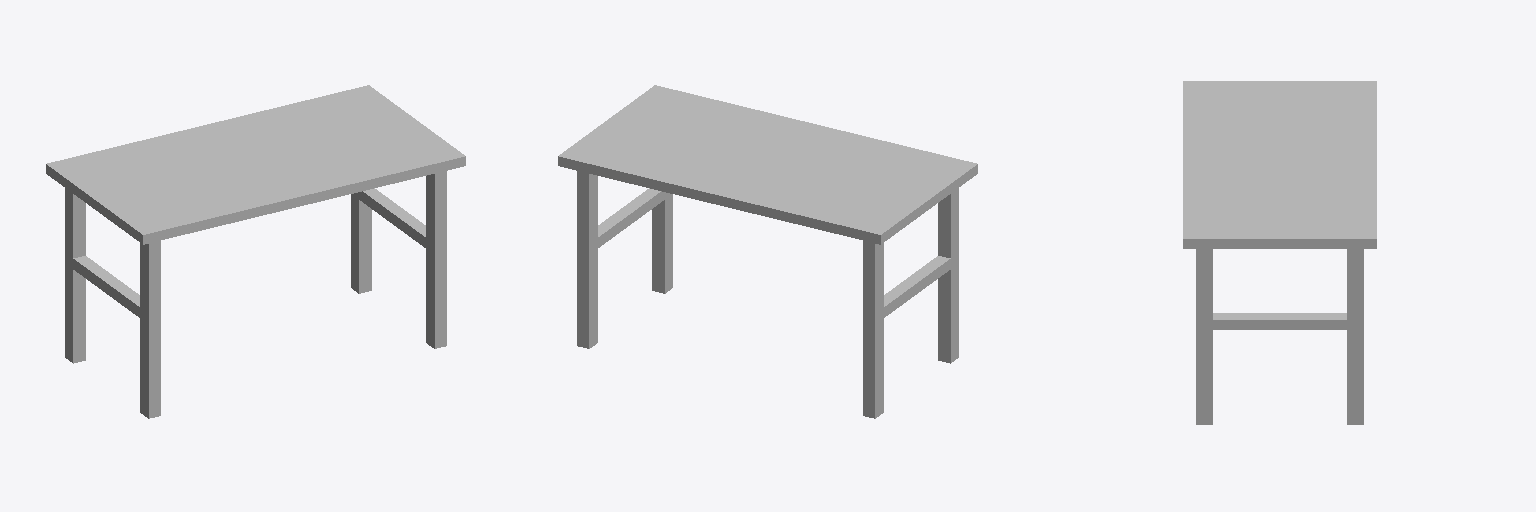
Rendered from table.obj.
The picture shows the model from 3 angles: view 1: azimuth 30°, elevation 25°; view 2: azimuth 150°, elevation 25°; view 3: azimuth 270°, elevation 25°; orthographic projection.
Parts seen in each view (by area): view 1: table:pCube1; view 2: table:pCube1; view 3: table:pCube1.
Boxes of the visible parts, x1,y1,x2,y2 form: table:pCube1: [46, 85, 465, 418]; table:pCube1: [558, 85, 977, 418]; table:pCube1: [1183, 81, 1376, 424].
Size of the model in its own units: 132 by 75 by 68.95.